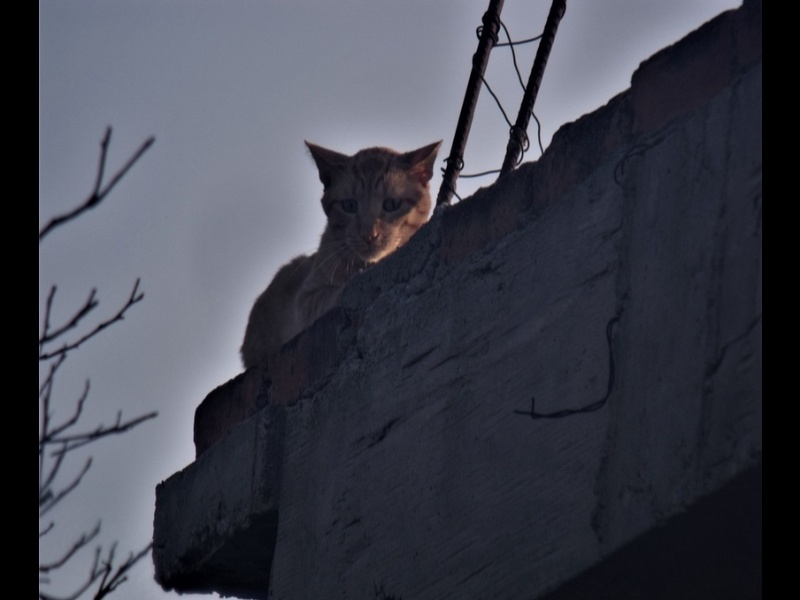cat: (235, 133, 447, 378)
